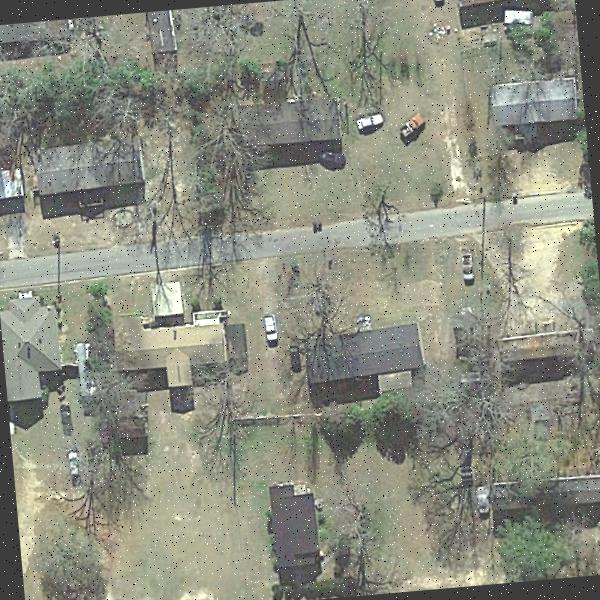Buildings: (311, 323, 424, 390), (0, 297, 71, 394), (123, 324, 222, 384), (268, 470, 320, 576), (233, 101, 342, 146), (39, 149, 148, 194), (483, 475, 600, 513), (494, 334, 579, 384), (493, 76, 576, 123)
